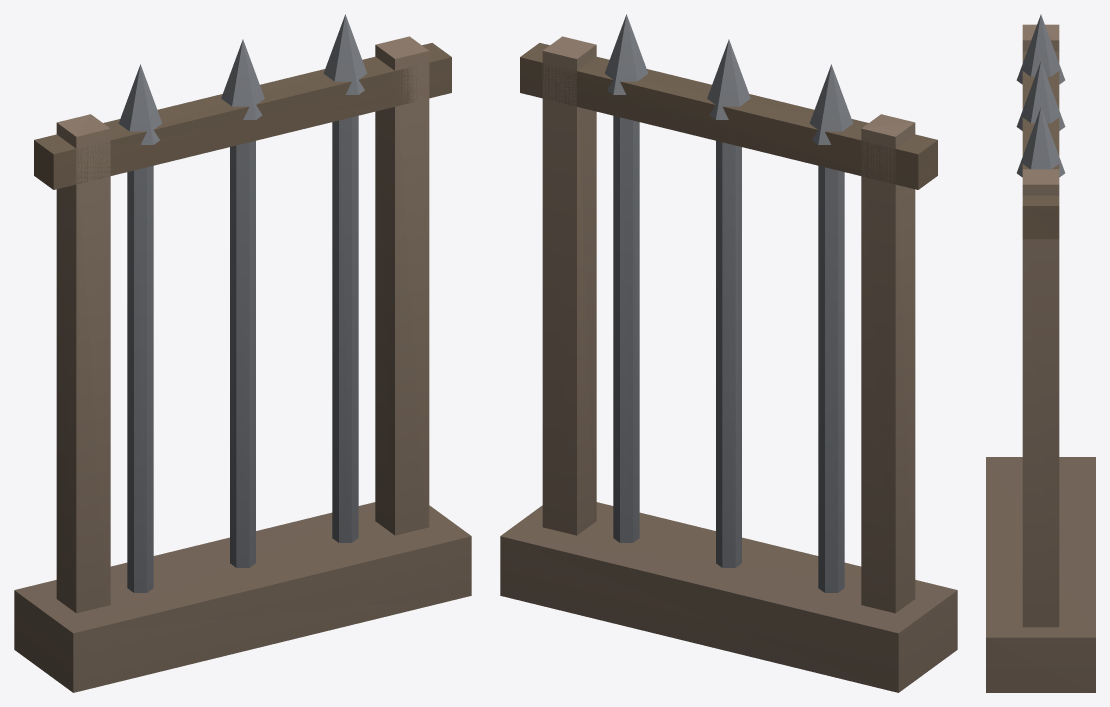
Rendered from weapon_rack.glb.
The picture shows the model from 3 angles, left to right: view 1: azimuth 30°, elevation 25°; view 2: azimuth 150°, elevation 25°; view 3: azimuth 270°, elevation 25°; orthographic projection. The views are drawn at different scales.
Visible parts, largest first — view 1: weapon_rack; view 2: weapon_rack; view 3: weapon_rack.
Boxes of the visible parts, box(x1,y1,x2,y2) form: weapon_rack: box(14, 14, 471, 692); weapon_rack: box(500, 14, 957, 692); weapon_rack: box(986, 14, 1095, 692).
Size of the model in its own units: 0.7 by 0.98 by 0.18.
